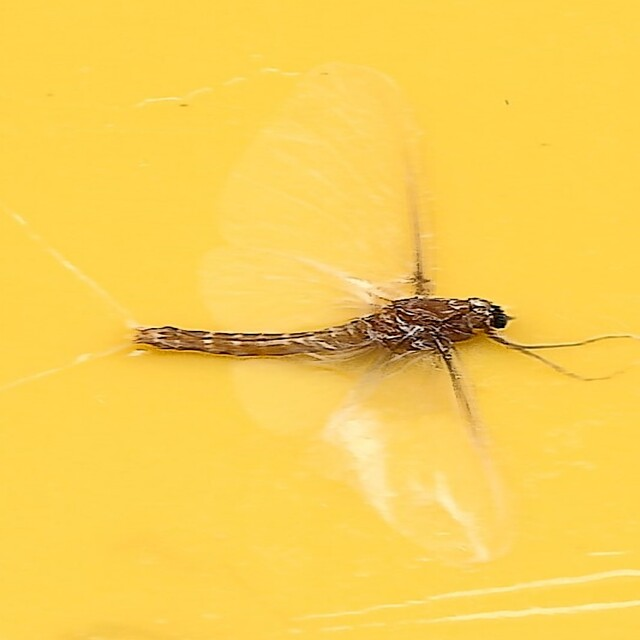Ephemeroptera: (120, 73, 520, 567)
